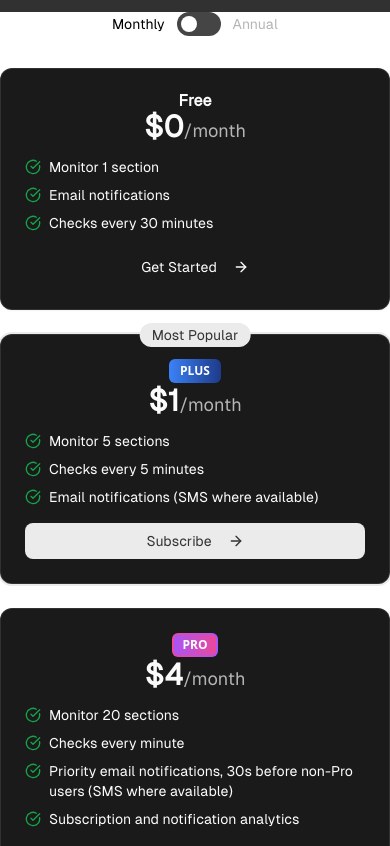
Scenario: PricingTiers › Multiple Tier Interactions › only shows loading for clicked tier
Click the button "Subscribe" below "Checks every 5 minutes" at (195, 541), box x1=25 y1=523 x2=365 y2=559
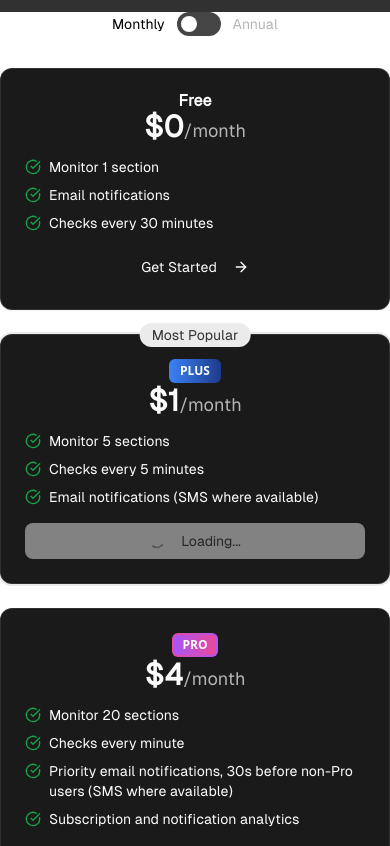
Result: the button named "subscribe" reads "Loading..." at x1=25 y1=523 x2=365 y2=559
